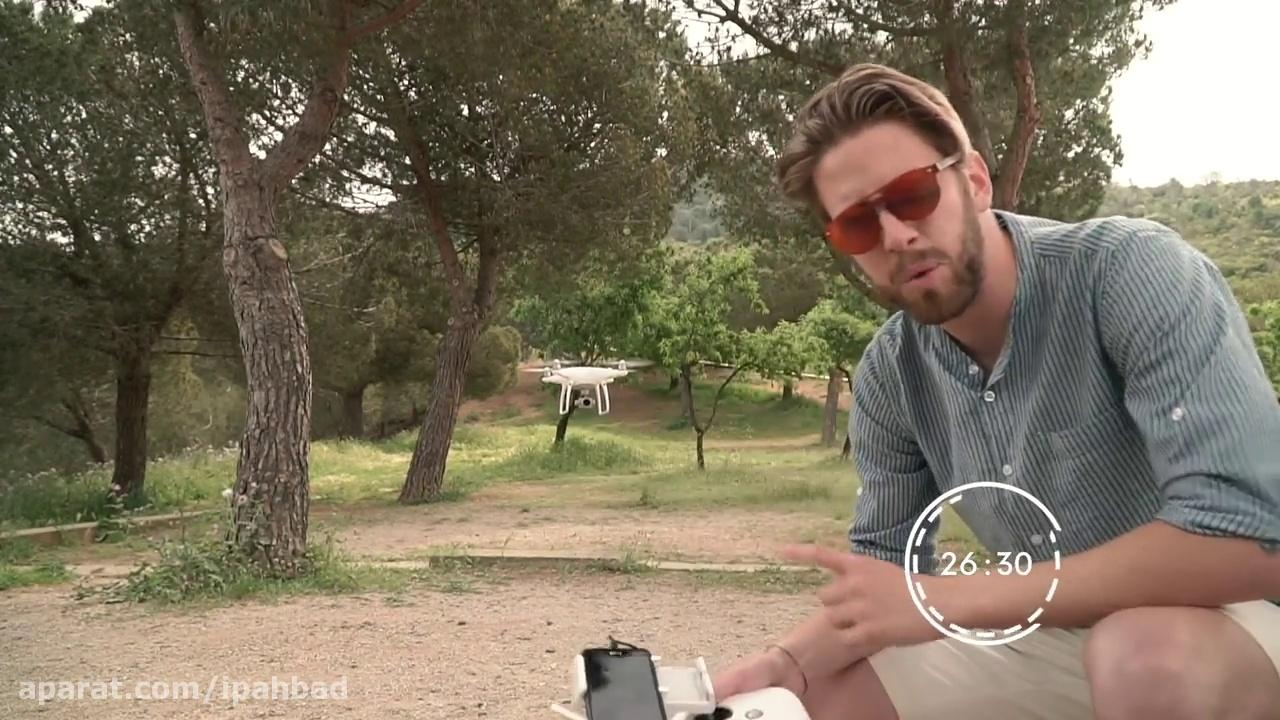drone: (518, 351, 656, 417)
